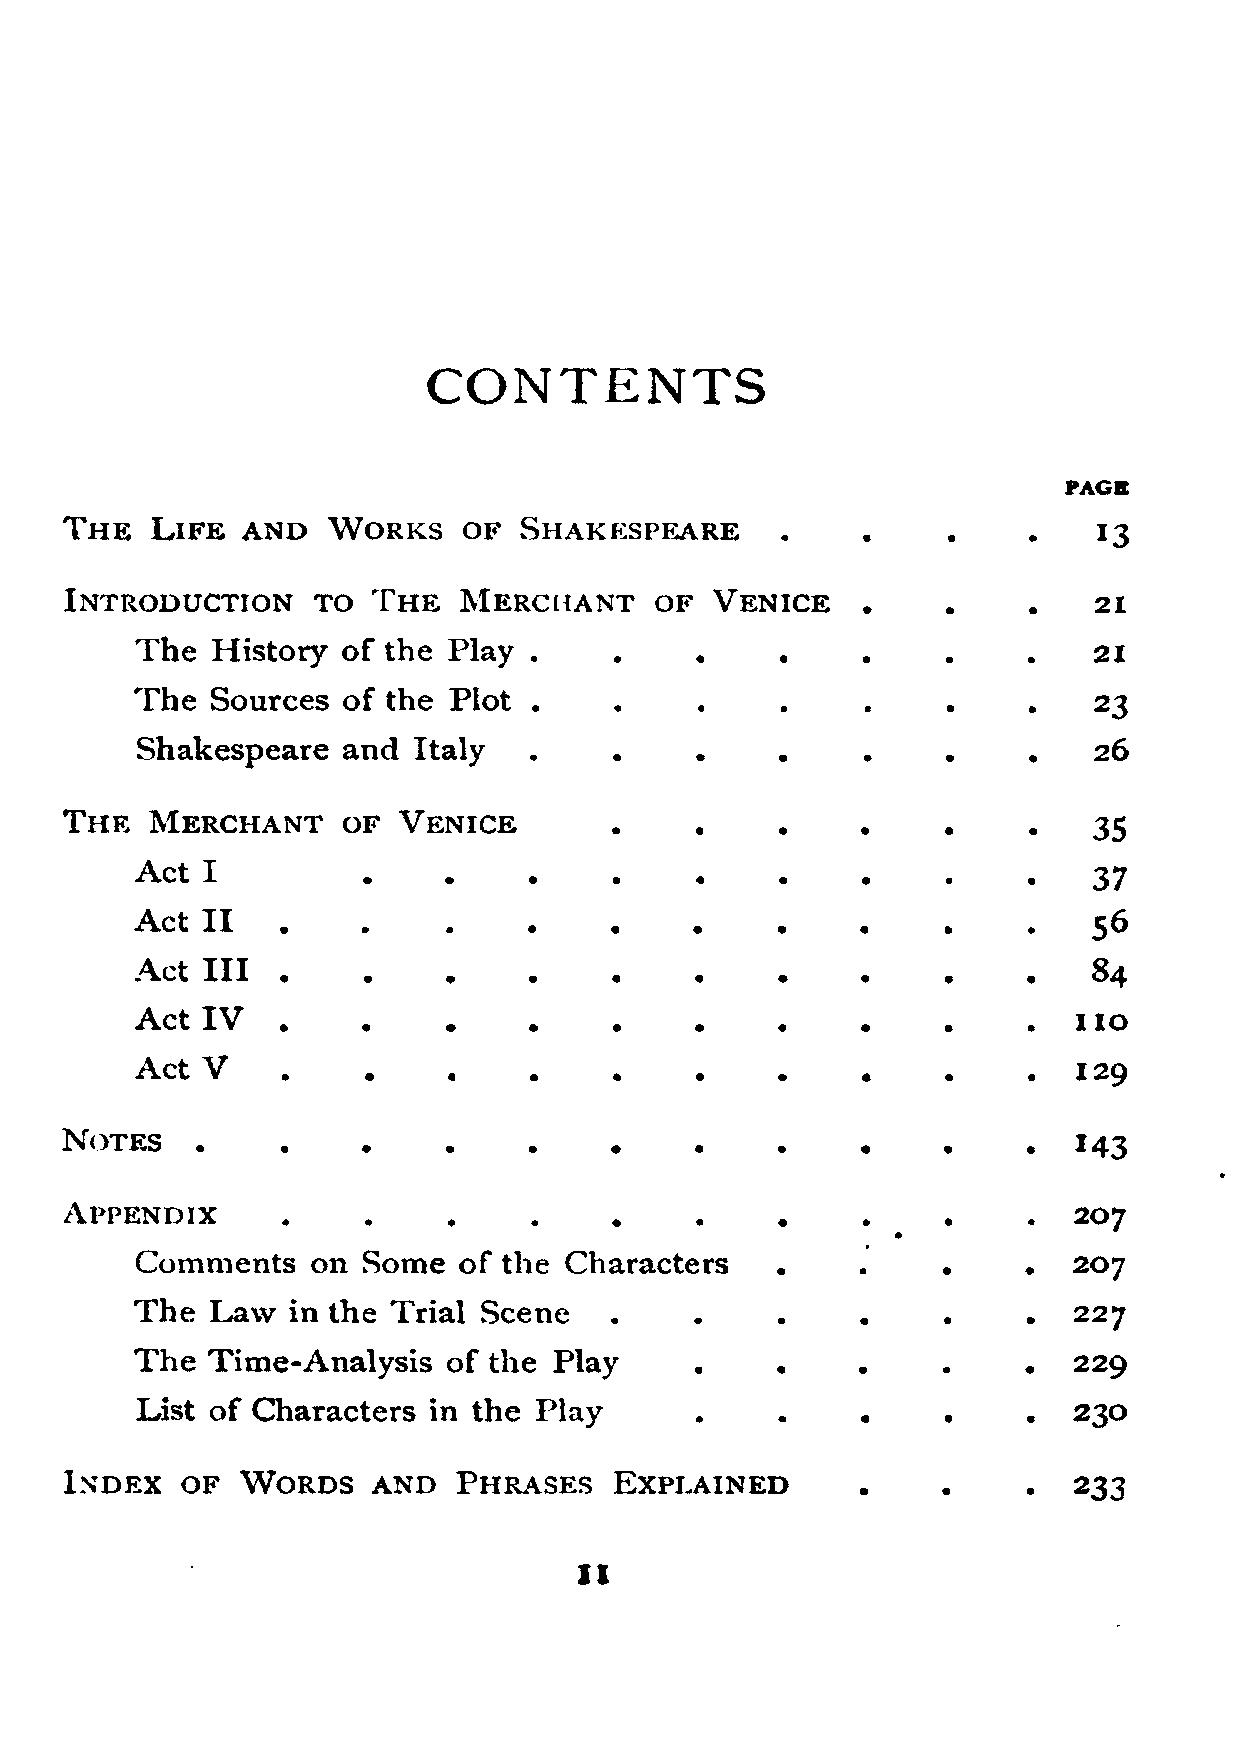TOC_chapter: (58, 578, 840, 620), (59, 1464, 790, 1503), (60, 513, 746, 548), (132, 1241, 734, 1280), (127, 1343, 623, 1381), (132, 1390, 609, 1428), (55, 803, 526, 840), (130, 1290, 574, 1329), (133, 625, 518, 667), (125, 727, 493, 768), (132, 680, 514, 717), (52, 1194, 219, 1227), (130, 951, 258, 986), (132, 998, 246, 1036), (123, 900, 242, 937), (58, 1119, 169, 1154), (132, 1045, 231, 1082), (127, 852, 228, 883)
TOC_pagenumber: (1066, 1247, 1133, 1287), (1071, 1129, 1137, 1165), (1066, 1201, 1133, 1235), (1068, 1300, 1129, 1335), (1070, 1469, 1129, 1503), (1070, 1053, 1129, 1086), (1070, 1007, 1131, 1035), (1074, 1401, 1130, 1432), (1088, 953, 1130, 994), (1091, 517, 1137, 554), (1086, 730, 1134, 765), (1072, 1351, 1129, 1381), (1092, 902, 1130, 943), (1092, 811, 1129, 849), (1092, 860, 1129, 895), (1095, 691, 1133, 722), (1087, 637, 1129, 664), (1092, 592, 1129, 616)
chapter: (425, 362, 770, 409)
